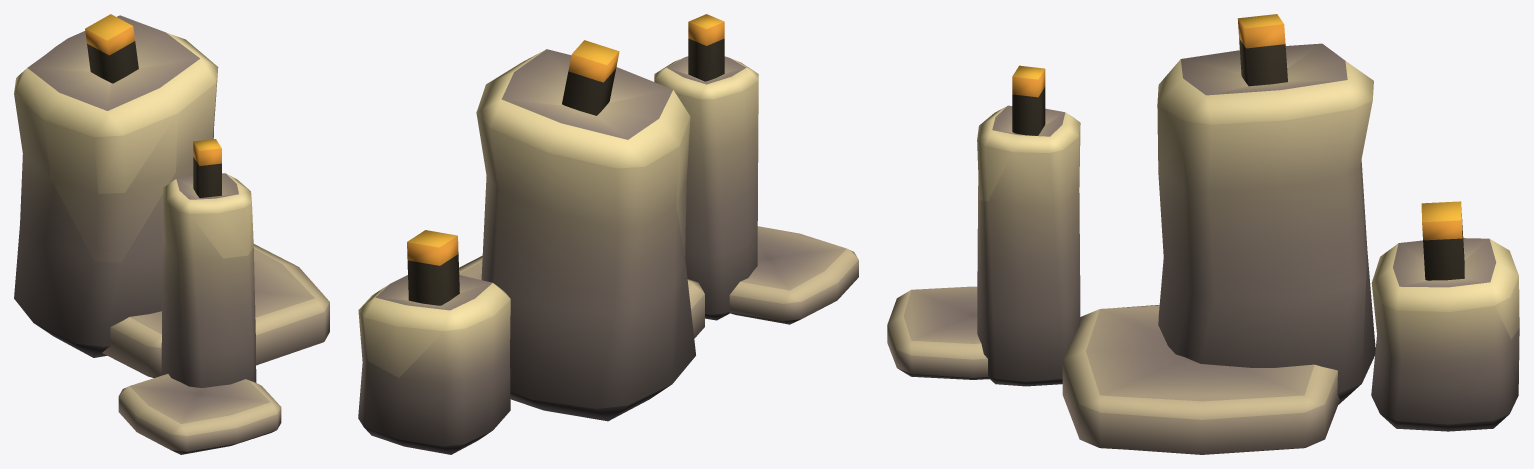
File: candle_arrangement_5_LOD_setup.fbx
3 renders of one model, left to right at view 1: azimuth 30°, elevation 25°; view 2: azimuth 150°, elevation 25°; view 3: azimuth 270°, elevation 25°, orthographic. The views are drawn at different scales.
Parts seen in each view (by area): view 1: candle_arrangement_5_LOD0; view 2: candle_arrangement_5_LOD0; view 3: candle_arrangement_5_LOD0.
Part boxes in pixels (bbox=[...]): candle_arrangement_5_LOD0: bbox=[14, 14, 329, 454]; candle_arrangement_5_LOD0: bbox=[358, 14, 858, 454]; candle_arrangement_5_LOD0: bbox=[887, 14, 1519, 454].
Size of what is drawn, in the model's own units: 72.77 by 80.71 by 131.
